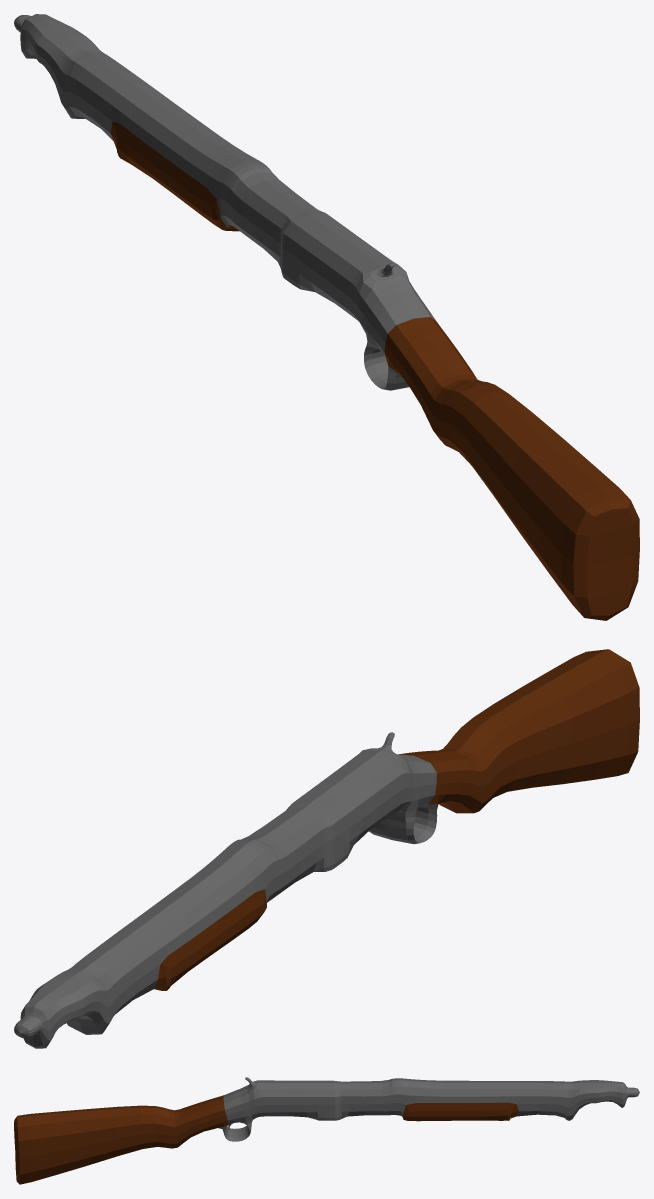
Rendered from Shotgun.fbx.
3 views of the same model, one above another, from view 1: azimuth 30°, elevation 25°; view 2: azimuth 150°, elevation 25°; view 3: azimuth 270°, elevation 25° (orthographic). The views are drawn at different scales.
Parts seen in each view (by area): view 1: Cube; view 2: Cube; view 3: Cube.
Part boxes in pixels (x1=…): Cube: x1=14, y1=14, x2=639, y2=620; Cube: x1=14, y1=649, x2=639, y2=1048; Cube: x1=14, y1=1077, x2=639, y2=1184.
Bounding box in the file's own units: 81.04 × 226 × 1213.
